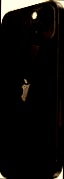iphone: (1, 1, 64, 179)
